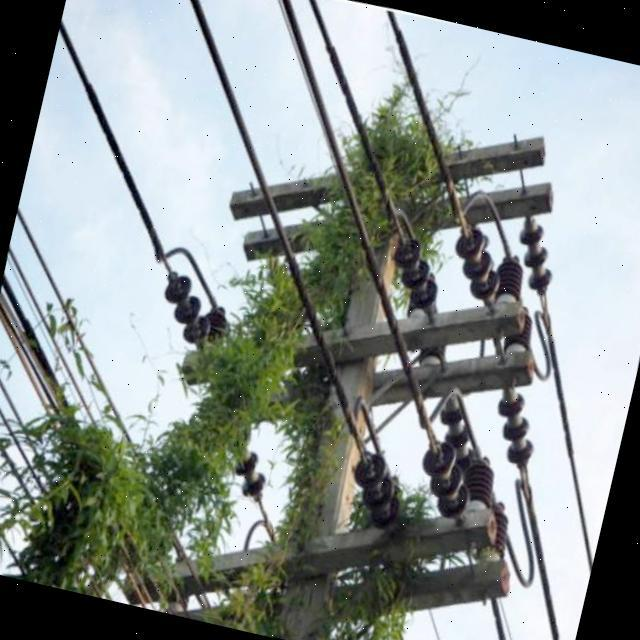critical vegetation: (188, 93, 509, 640), (50, 263, 475, 640), (158, 43, 556, 426)
